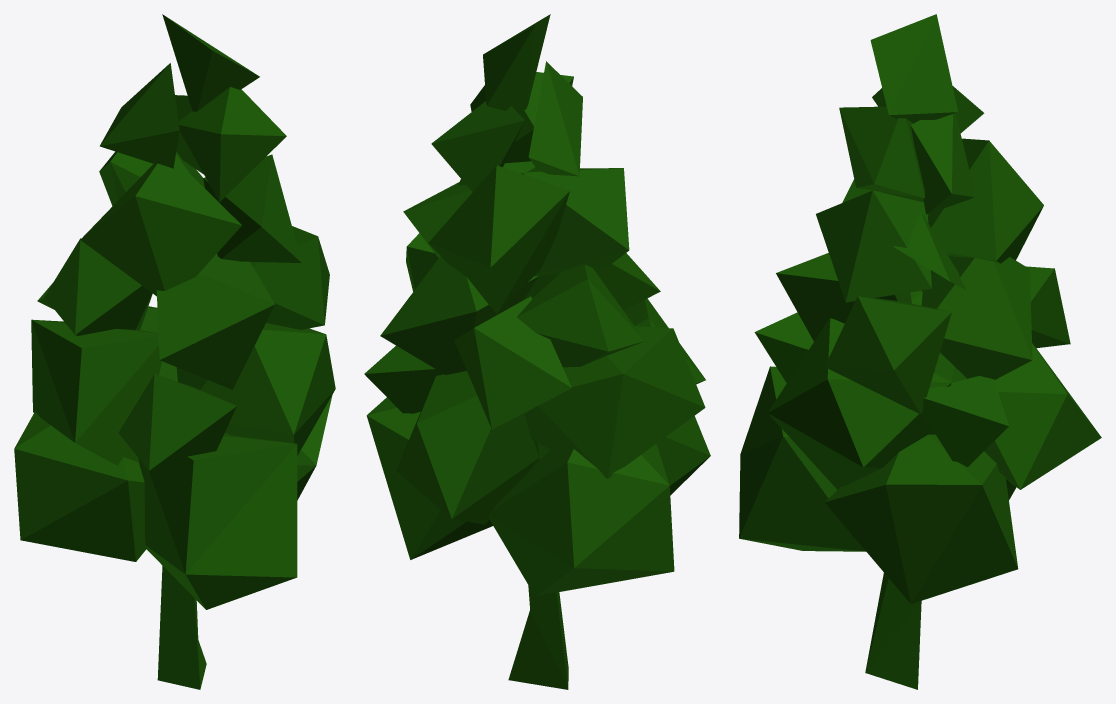
File: Poplar_Tree_200face.fbx
3 renders of one model, left to right at view 1: azimuth 30°, elevation 25°; view 2: azimuth 150°, elevation 25°; view 3: azimuth 270°, elevation 25°, orthographic. The views are drawn at different scales.
Parts seen in each view (by area): view 1: Poplar; view 2: Poplar; view 3: Poplar.
Boxes of the visible parts, left/top/right/bottom form: Poplar: left=14, top=14, right=335, bottom=689; Poplar: left=364, top=14, right=710, bottom=689; Poplar: left=739, top=14, right=1101, bottom=689.
Size of the model in its own units: 267 by 581 by 290.
